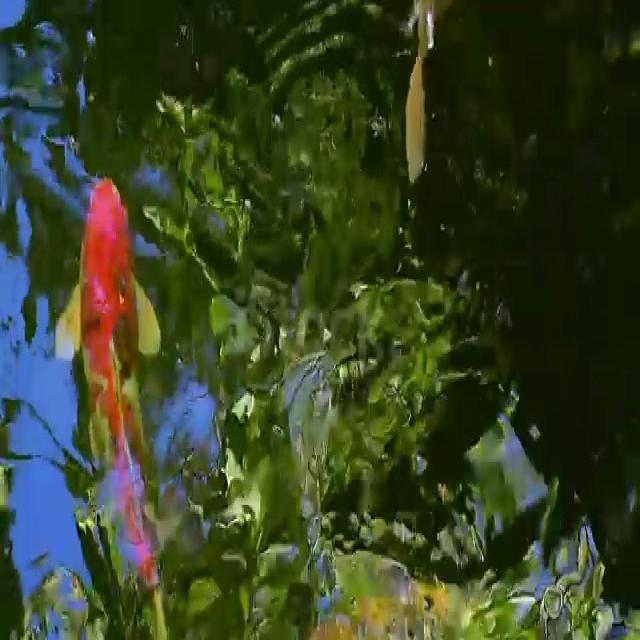fish: (56, 136, 195, 640)
